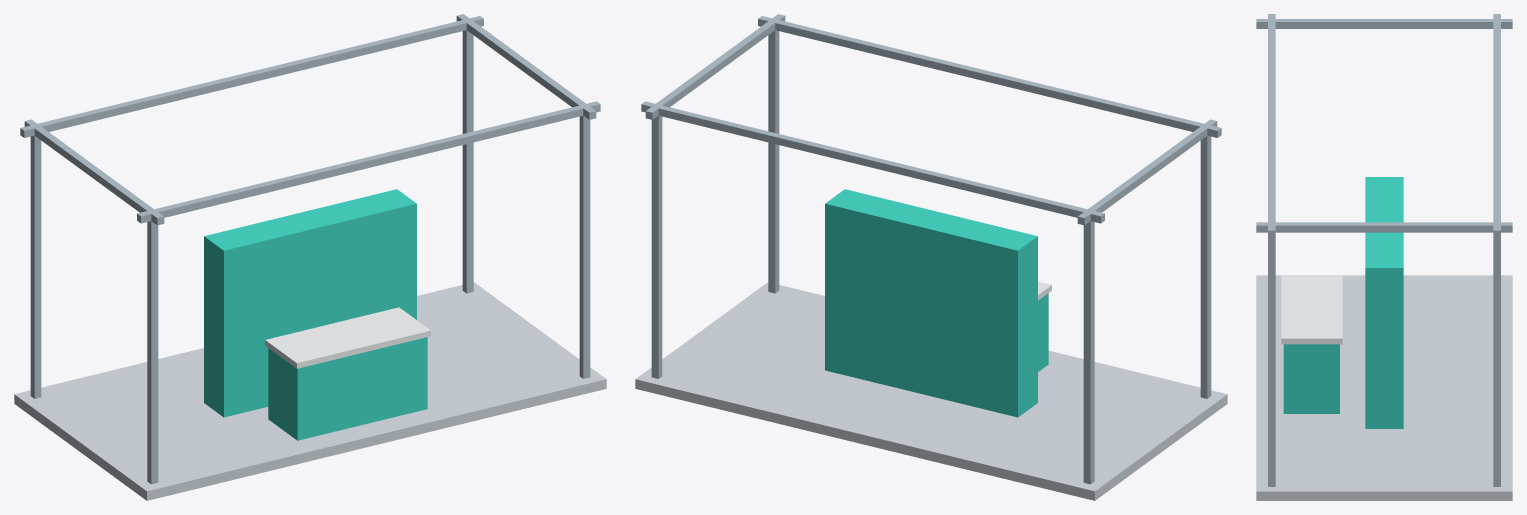
3 views of the same model, side by side, from view 1: azimuth 30°, elevation 25°; view 2: azimuth 150°, elevation 25°; view 3: azimuth 270°, elevation 25° (orthographic). The views are drawn at different scales.
Parts seen in each view (by area): view 1: Exhibition Booth Concept; view 2: Exhibition Booth Concept; view 3: Exhibition Booth Concept.
Boxes of the visible parts, x1,y1,x2,y2 form: Exhibition Booth Concept: (14, 14, 606, 500); Exhibition Booth Concept: (635, 14, 1227, 500); Exhibition Booth Concept: (1256, 14, 1512, 500).
Bounding box in the file's own units: 6 × 3.49 × 3.
